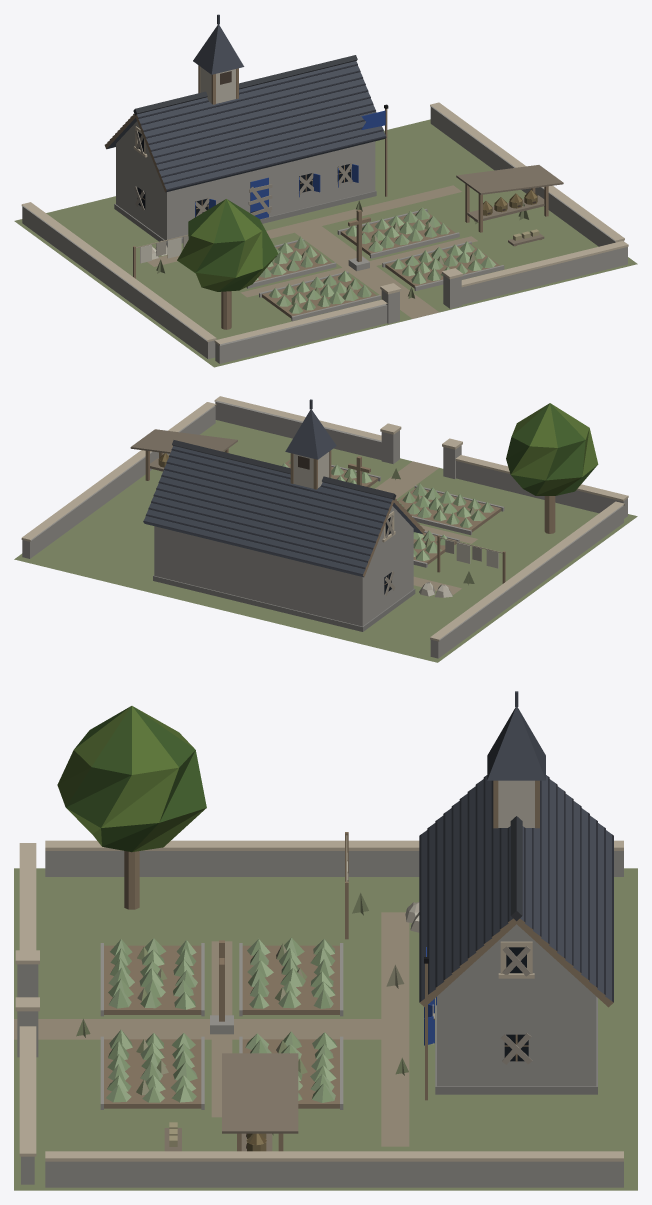
Rendered from klosterhof.glb.
The picture shows the model from 3 angles, top to bottom: view 1: azimuth 30°, elevation 25°; view 2: azimuth 150°, elevation 25°; view 3: azimuth 270°, elevation 25°; orthographic projection. The views are drawn at different scales.
Parts seen in each view (by area): view 1: Haus, Arbeit, Laubkrone_Haus, Leerstand, Fahne; view 2: Haus, Laubkrone_Haus, Arbeit, Leerstand; view 3: Haus, Laubkrone_Haus, Arbeit, Leerstand.
Boxes of the visible parts, <box> form: Haus: <box>14,14,637,367</box>; Arbeit: <box>133,190,544,313</box>; Laubkrone_Haus: <box>177,199,278,291</box>; Leerstand: <box>134,130,528,305</box>; Fahne: <box>361,104,388,196</box>; Haus: <box>14,396,637,662</box>; Laubkrone_Haus: <box>506,403,598,495</box>; Arbeit: <box>158,453,505,597</box>; Leerstand: <box>346,468,476,595</box>; Haus: <box>14,691,637,1190</box>; Laubkrone_Haus: <box>57,706,206,852</box>; Arbeit: <box>106,832,419,1151</box>; Leerstand: <box>76,892,532,1135</box>.
Bounding box in the file's own units: 22 × 9.68 × 18.
